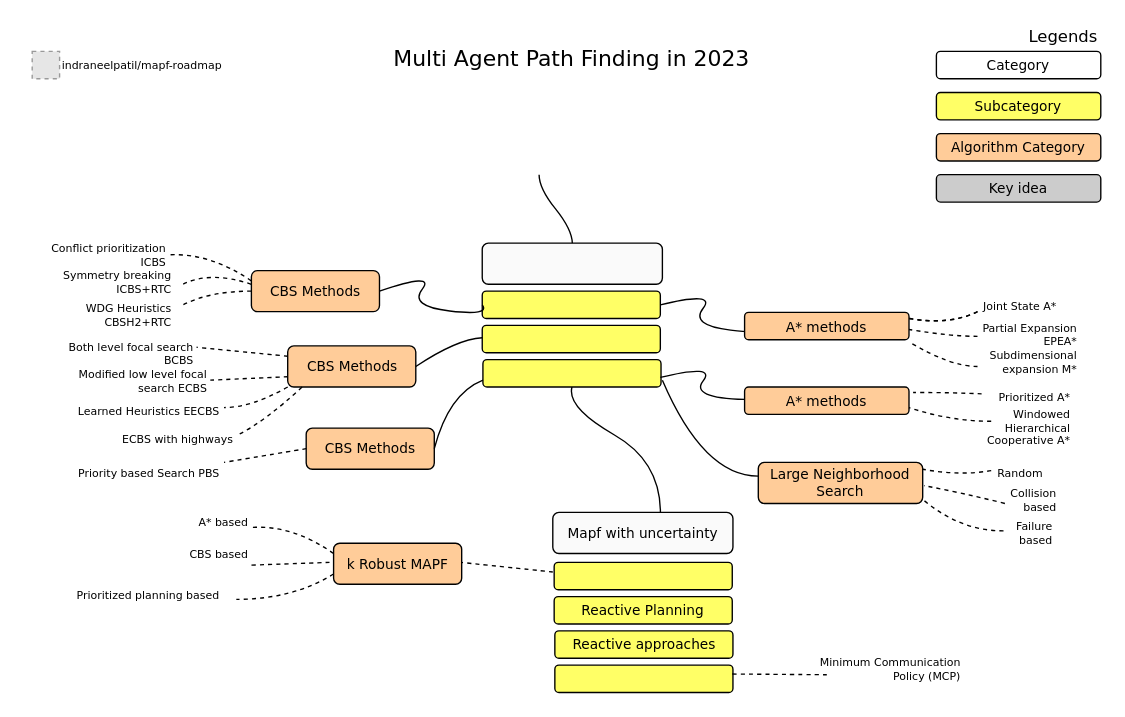
This 1125x717 diagram has some shape labels left out. Grey dashed boxes stand in for pictures. Each missing label, with the centre of its shape:
"Bounded Suboptimal" goes at (x=570, y=338).
"Centralised Graph Search Based" goes at (x=571, y=263).
"Optimal Algorithms" goes at (x=570, y=304).
"Robust Execution" goes at (x=643, y=678).
"Robust Planning" goes at (x=642, y=575).
"Suboptimal" goes at (x=571, y=372).
